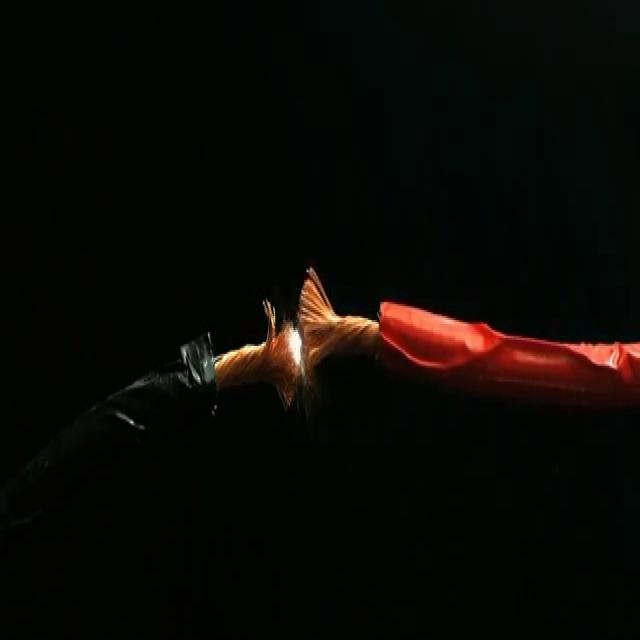fire: (277, 317, 312, 382)
